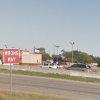Tree: (57, 43, 90, 63)
